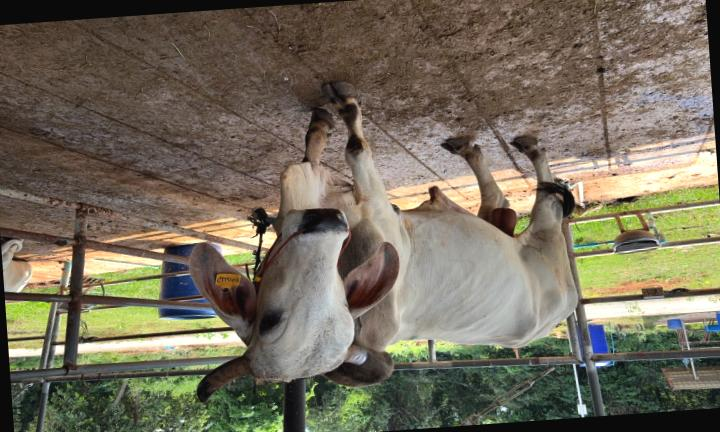Brahman: (190, 81, 577, 401)
